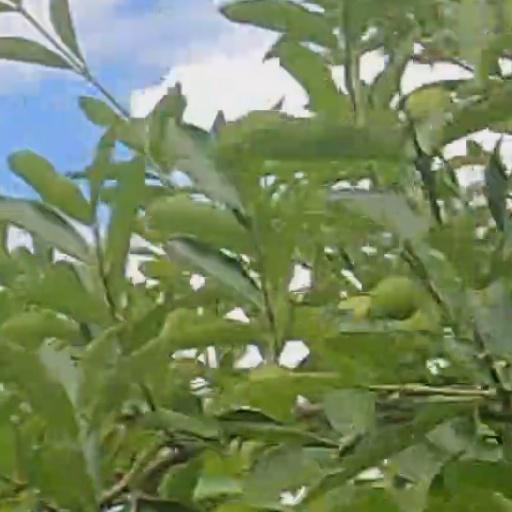acerola_verde: (376, 280, 415, 317)
